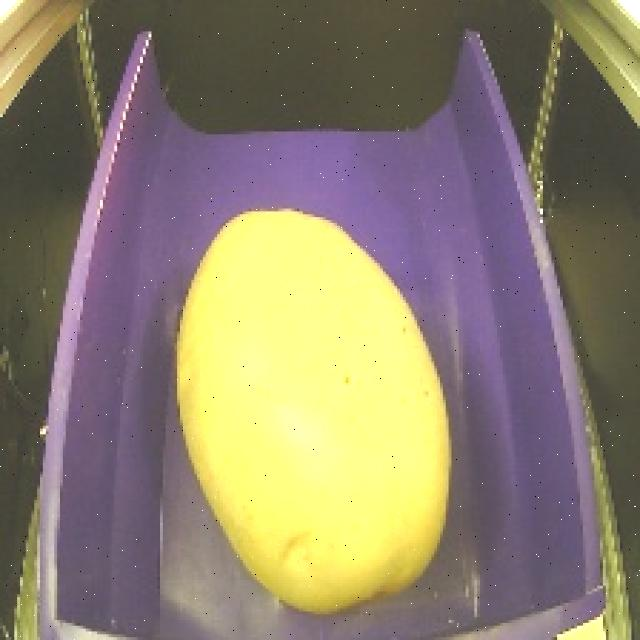full_potato: (171, 192, 466, 620)
